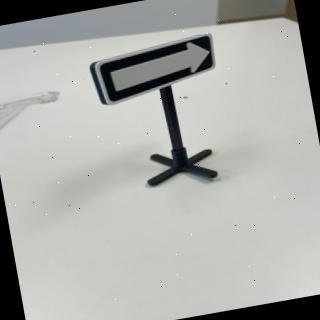sign_oneway_right: (84, 35, 229, 107)
